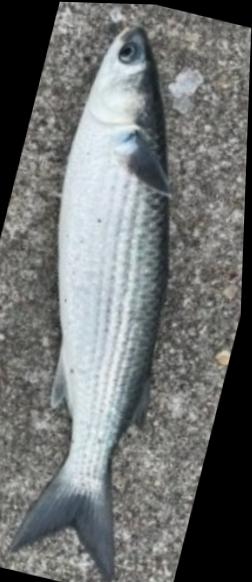fish: (12, 24, 172, 582)
